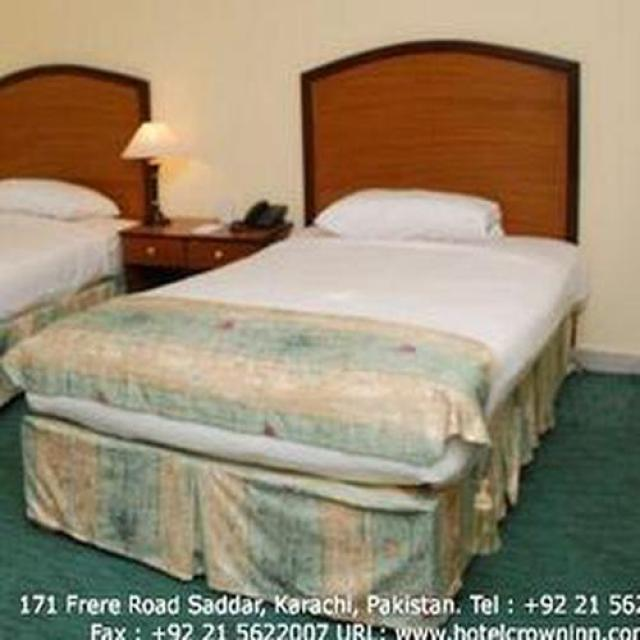bed: (0, 41, 590, 640)
